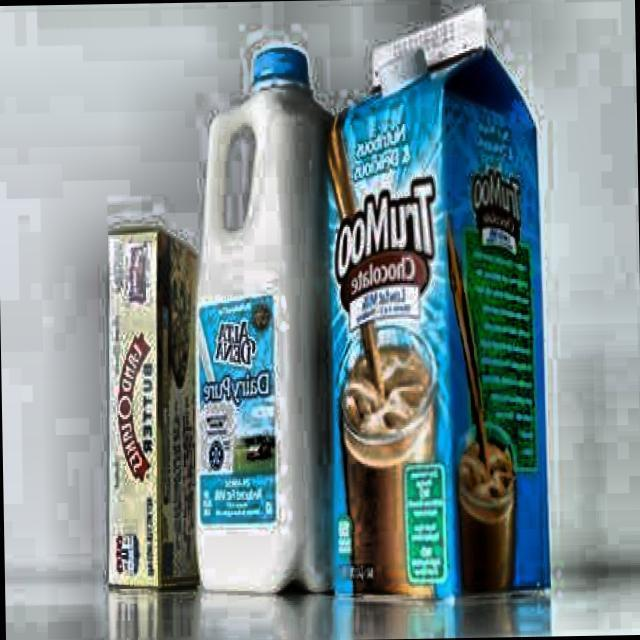cardboard: (101, 222, 205, 588)
